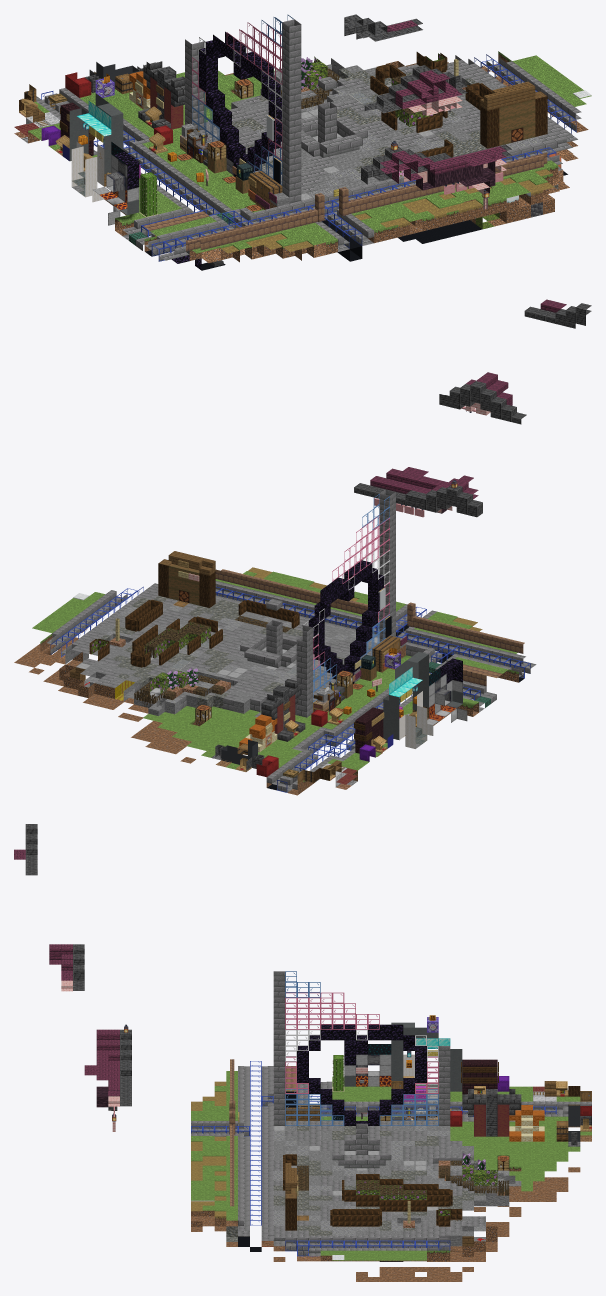
File: WawaWorld.fbx
3 views of the same model, one above another, from view 1: azimuth 30°, elevation 25°; view 2: azimuth 150°, elevation 25°; view 3: azimuth 270°, elevation 25° (orthographic). The views are drawn at different scales.
Visible parts, largest first — view 1: PLAYABLE; view 2: PLAYABLE; view 3: PLAYABLE.
Boxes of the visible parts, left/top/right/bottom form: PLAYABLE: left=14, top=14, right=591, bottom=270; PLAYABLE: left=14, top=299, right=591, bottom=795; PLAYABLE: left=14, top=824, right=591, bottom=1281.
Size of the model in its own units: 4000 by 2700 by 4900.
